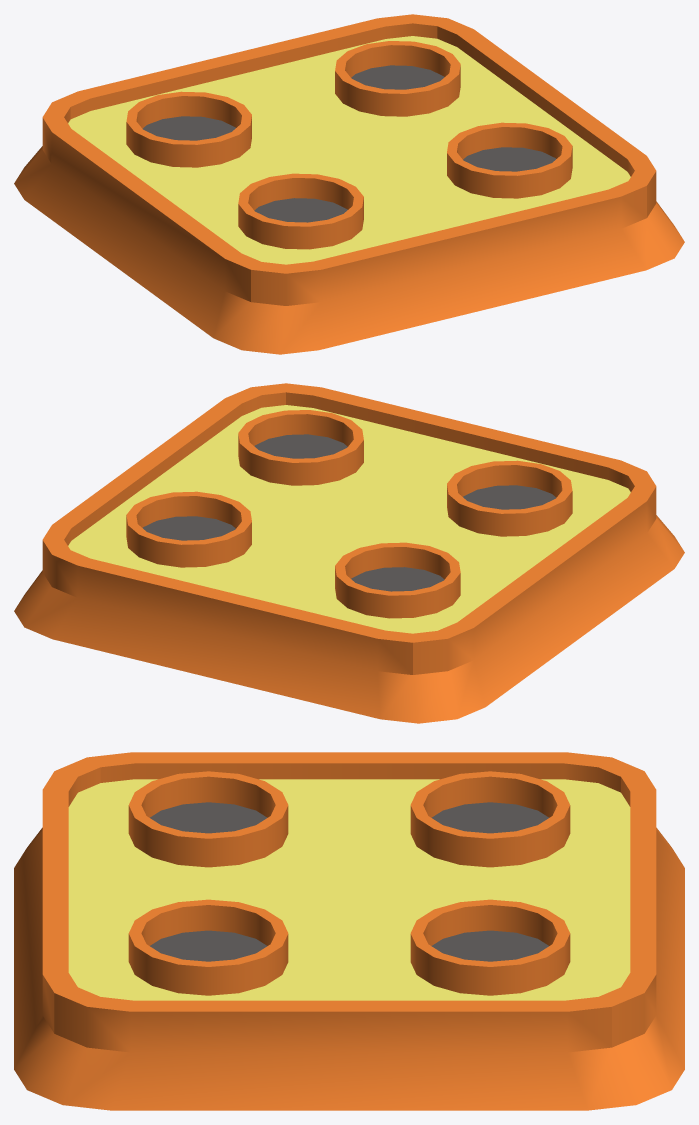
File: Obstacle 26 V3.fbx
3 views of the same model, one above another, from view 1: azimuth 30°, elevation 25°; view 2: azimuth 150°, elevation 25°; view 3: azimuth 270°, elevation 25° (orthographic). The views are drawn at different scales.
Visible parts, largest first — view 1: 06 Part 1; view 2: 06 Part 1; view 3: 06 Part 1.
Part boxes in pixels (box(x1,y1,x2,y2)): 06 Part 1: box(14, 14, 684, 354); 06 Part 1: box(14, 383, 684, 723); 06 Part 1: box(14, 752, 684, 1110).
Bounding box in the file's own units: 125 × 20.4 × 125.
1 material, 1 textured.
